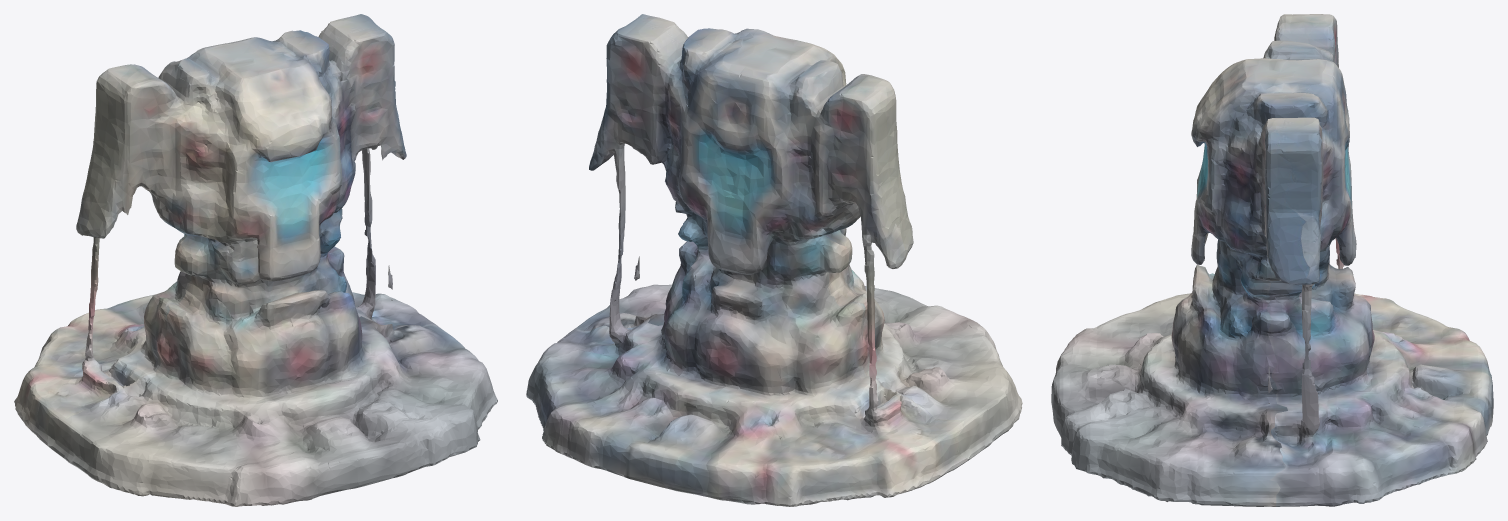
Rendered from maq2.fbx.
The picture shows the model from 3 angles, left to right: view 1: azimuth 30°, elevation 25°; view 2: azimuth 150°, elevation 25°; view 3: azimuth 270°, elevation 25°; orthographic projection. The views are drawn at different scales.
Parts seen in each view (by area): view 1: world; view 2: world; view 3: world.
Boxes of the visible parts, bbox=[...] form: world: bbox=[14, 14, 497, 506]; world: bbox=[526, 14, 1022, 506]; world: bbox=[1051, 14, 1493, 506].
Size of the model in its own units: 196 by 200 by 192.
1 material, 1 textured.
